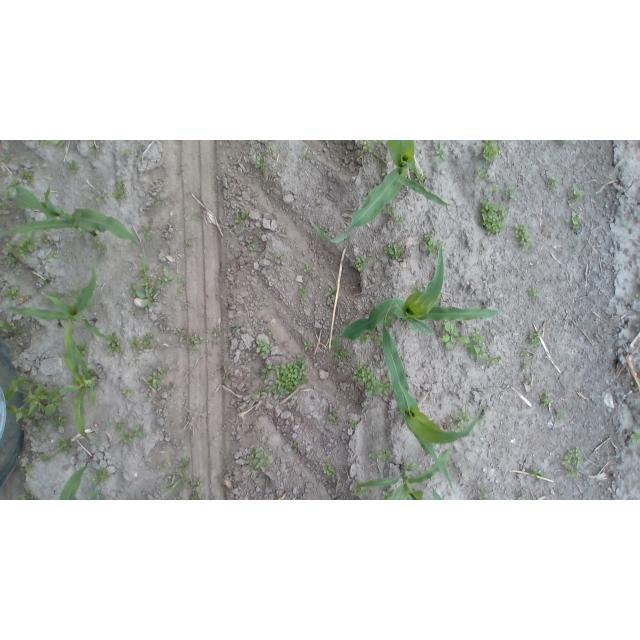Maize: (383, 292, 482, 492), (339, 244, 502, 340), (310, 140, 452, 244), (1, 184, 143, 249), (10, 261, 107, 338), (356, 442, 452, 500), (65, 319, 100, 443), (60, 464, 89, 500), (431, 487, 445, 499), (91, 489, 101, 499)
Weeds: (250, 338, 308, 400), (439, 320, 504, 365), (7, 375, 66, 424), (131, 259, 174, 311), (159, 457, 208, 500), (353, 362, 390, 398), (475, 198, 510, 235), (562, 446, 584, 480), (131, 333, 156, 359), (247, 447, 273, 468), (147, 367, 171, 388), (482, 140, 502, 165), (514, 223, 532, 250), (385, 204, 407, 226), (564, 182, 584, 206), (18, 231, 34, 260), (120, 426, 144, 445), (107, 333, 125, 358), (187, 333, 206, 356), (5, 244, 21, 269), (431, 142, 450, 163), (565, 211, 583, 233), (450, 411, 470, 429), (384, 246, 405, 263), (366, 446, 391, 460), (527, 330, 546, 348), (256, 147, 271, 169), (111, 181, 128, 200), (93, 468, 111, 484), (354, 255, 370, 272), (92, 237, 109, 253), (1, 319, 20, 333), (321, 462, 339, 476), (1, 286, 19, 300), (422, 233, 435, 252), (503, 186, 517, 203), (57, 439, 75, 452), (357, 140, 373, 154), (235, 210, 249, 226), (66, 159, 83, 172), (474, 168, 489, 182), (22, 168, 37, 182), (114, 420, 130, 432), (143, 225, 155, 241), (328, 411, 341, 425), (87, 141, 100, 155), (529, 465, 544, 477), (541, 393, 554, 406), (555, 407, 567, 421), (120, 147, 134, 159), (407, 461, 425, 470), (13, 493, 36, 500), (177, 276, 187, 292), (38, 141, 67, 146), (231, 324, 242, 337), (549, 175, 559, 189), (353, 488, 368, 497), (382, 489, 395, 499), (120, 387, 133, 397), (415, 172, 427, 182), (528, 287, 538, 299), (480, 489, 492, 499), (79, 342, 89, 354), (631, 431, 640, 444), (37, 234, 50, 243), (3, 189, 13, 200), (274, 253, 286, 262), (519, 349, 529, 359), (347, 419, 357, 429), (339, 349, 349, 359), (490, 183, 499, 194), (326, 288, 335, 299), (557, 140, 569, 148), (42, 453, 54, 461), (303, 263, 311, 275), (298, 153, 311, 160), (304, 339, 313, 349), (299, 286, 308, 296), (250, 243, 261, 251), (96, 195, 103, 207), (375, 335, 382, 347), (47, 251, 61, 257), (523, 374, 532, 383), (374, 140, 384, 148), (246, 470, 259, 476), (437, 240, 445, 249), (623, 222, 631, 231), (191, 212, 200, 220), (25, 463, 34, 471), (12, 178, 21, 186), (293, 443, 300, 452), (187, 238, 194, 247), (152, 199, 160, 206), (521, 363, 529, 370), (362, 333, 367, 344), (521, 492, 527, 500), (0, 202, 6, 210), (478, 418, 483, 426), (554, 309, 562, 314), (487, 387, 492, 392), (636, 292, 640, 297)
